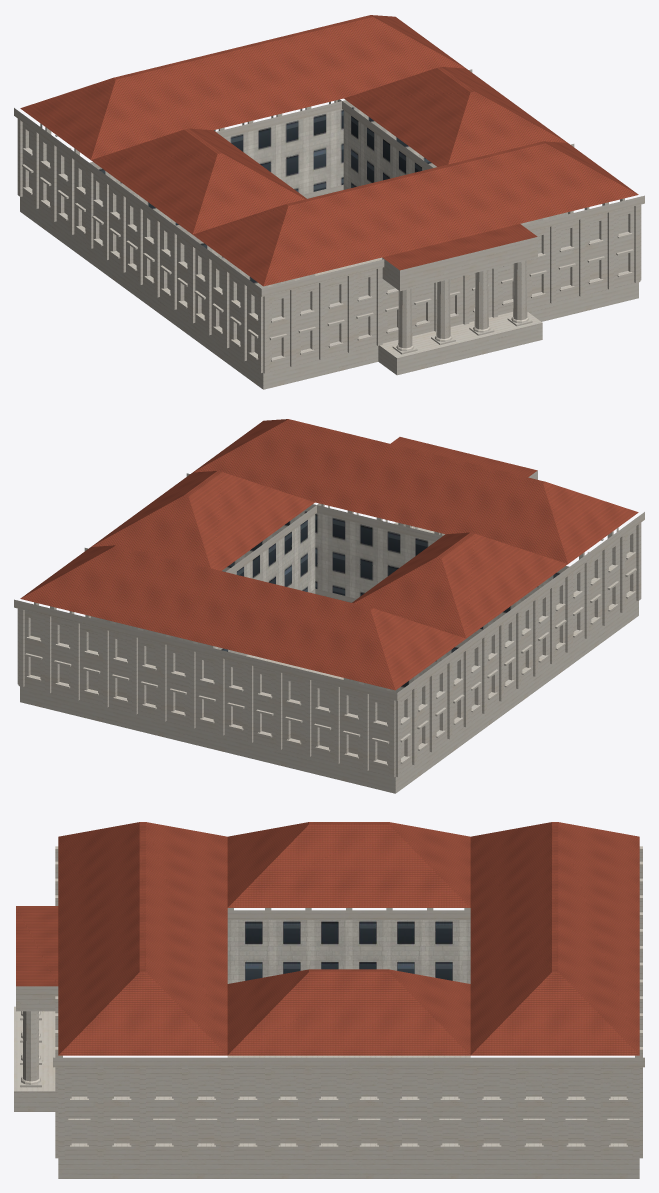
Rendered from oas_building.glb.
The picture shows the model from 3 angles, top to bottom: view 1: azimuth 30°, elevation 25°; view 2: azimuth 150°, elevation 25°; view 3: azimuth 270°, elevation 25°; orthographic projection. The views are drawn at different scales.
Visible parts, largest first — view 1: oas_building; view 2: oas_building; view 3: oas_building.
Part boxes in pixels (x1,y1,x2,y2): oas_building: (14,15,644,389); oas_building: (14,419,644,793); oas_building: (14,822,644,1178).
Size of the model in its own units: 50 by 18 by 59.7.
4 materials, 4 textured.
